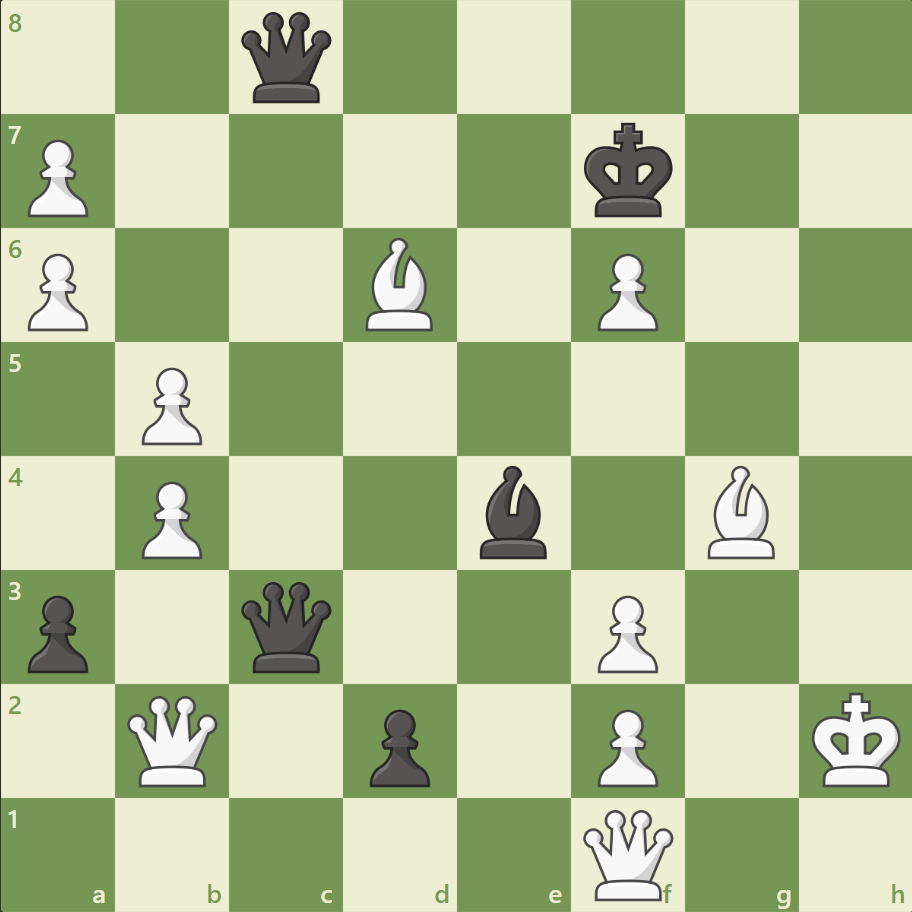B: (358, 233, 442, 336), (698, 460, 782, 563)
K: (806, 685, 906, 793)
P: (20, 132, 95, 223), (20, 246, 95, 337), (133, 359, 208, 450), (133, 473, 208, 564), (588, 246, 662, 337), (588, 586, 662, 677), (588, 700, 662, 791)
Q: (124, 690, 223, 789), (578, 804, 677, 903)
b: (471, 460, 555, 563)
k: (579, 117, 679, 225)
p: (20, 586, 95, 677), (361, 700, 435, 791)
q: (237, 576, 336, 676), (237, 9, 336, 108)
